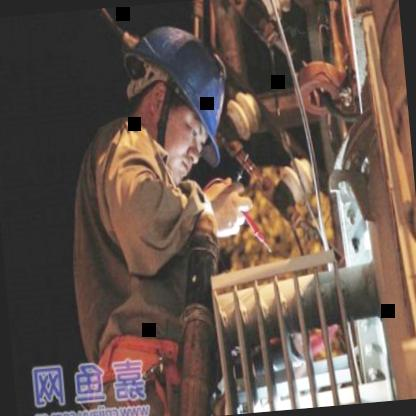helmet: (130, 18, 244, 186)
